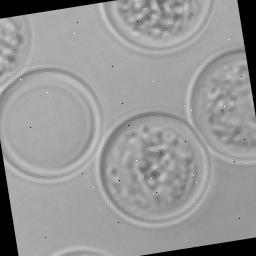picoshell: (95, 106, 210, 223), (0, 65, 101, 182), (184, 47, 256, 164), (98, 0, 211, 54), (0, 15, 32, 90), (49, 245, 112, 256)
